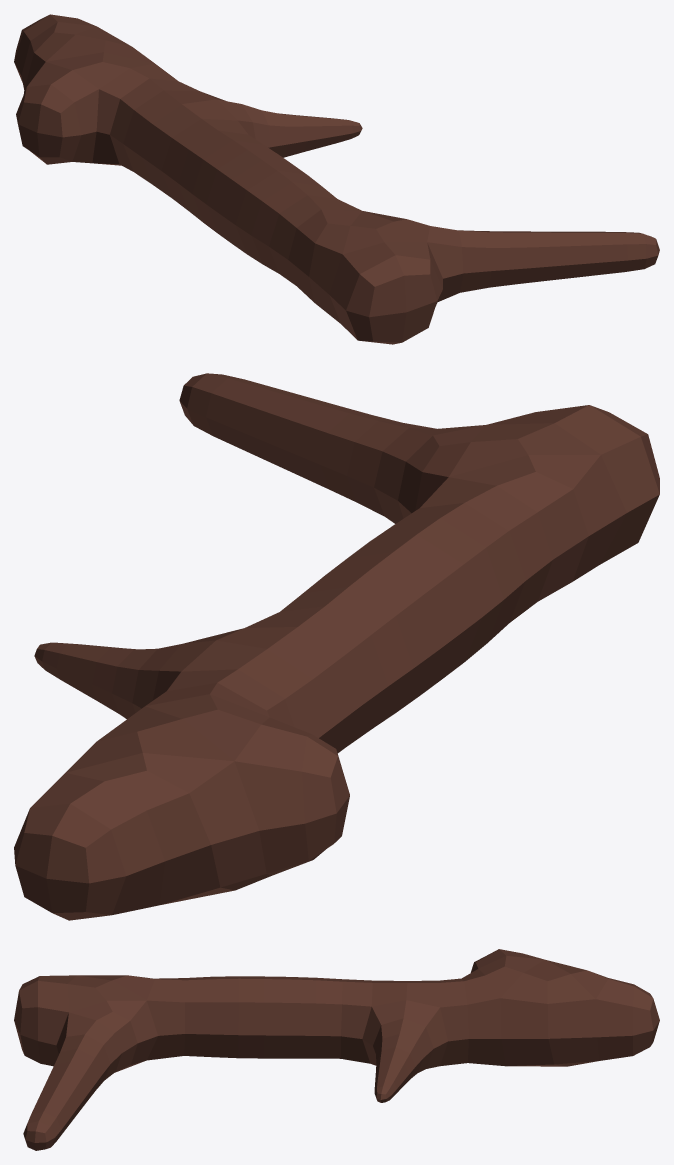
Rendered from Trunk4.fbx.
3 views of the same model, one above another, from view 1: azimuth 30°, elevation 25°; view 2: azimuth 150°, elevation 25°; view 3: azimuth 270°, elevation 25° (orthographic). The views are drawn at different scales.
Visible parts, largest first — view 1: Plane.003; view 2: Plane.003; view 3: Plane.003.
Boxes of the visible parts, x1,y1,x2,y2 form: Plane.003: (14, 14, 659, 344); Plane.003: (14, 373, 659, 920); Plane.003: (14, 949, 659, 1150).
Bounding box in the file's own units: 284 × 72.64 × 493.
